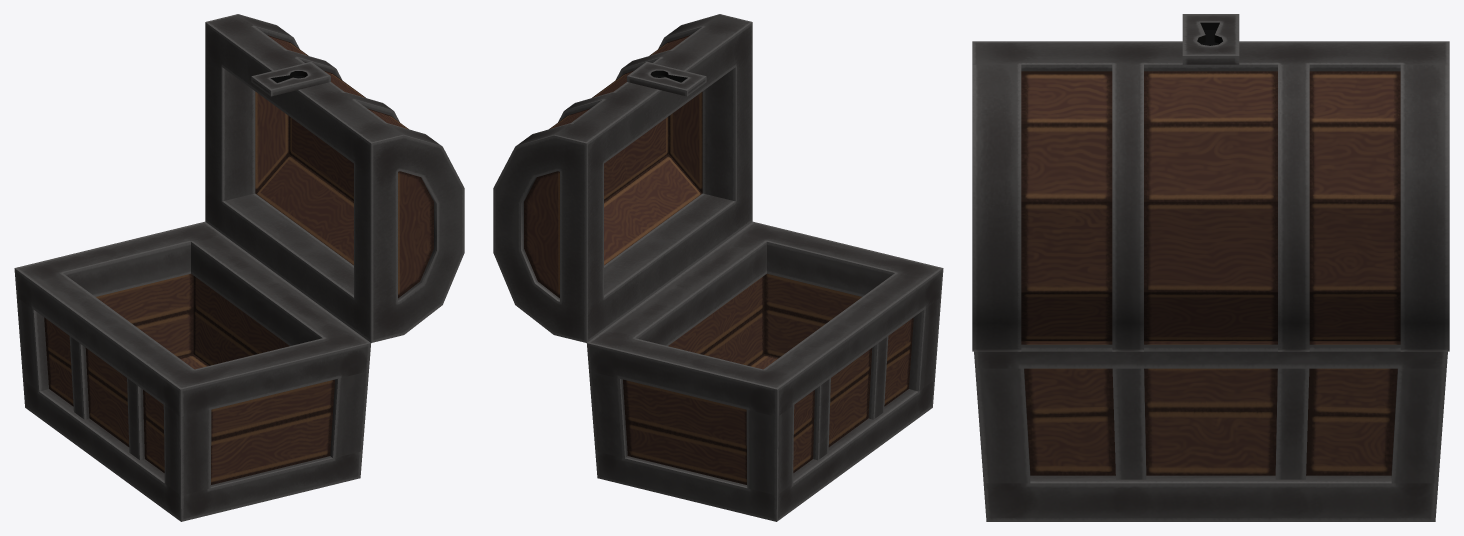
File: Treasure_Chest.fbx
3 renders of one model, left to right at view 1: azimuth 30°, elevation 25°; view 2: azimuth 150°, elevation 25°; view 3: azimuth 270°, elevation 25°, orthographic. The views are drawn at different scales.
Parts seen in each view (by area): view 1: ChestBase, ChestLid; view 2: ChestBase, ChestLid; view 3: ChestLid, ChestBase.
Part boxes in pixels (x1=…): ChestBase: x1=14, y1=221, x2=371, y2=521; ChestLid: x1=205, y1=14, x2=464, y2=342; ChestBase: x1=586, y1=221, x2=943, y2=521; ChestLid: x1=493, y1=14, x2=752, y2=342; ChestLid: x1=972, y1=14, x2=1449, y2=351; ChestBase: x1=974, y1=351, x2=1447, y2=521.
Bounding box in the file's own units: 106 × 123 × 108.
